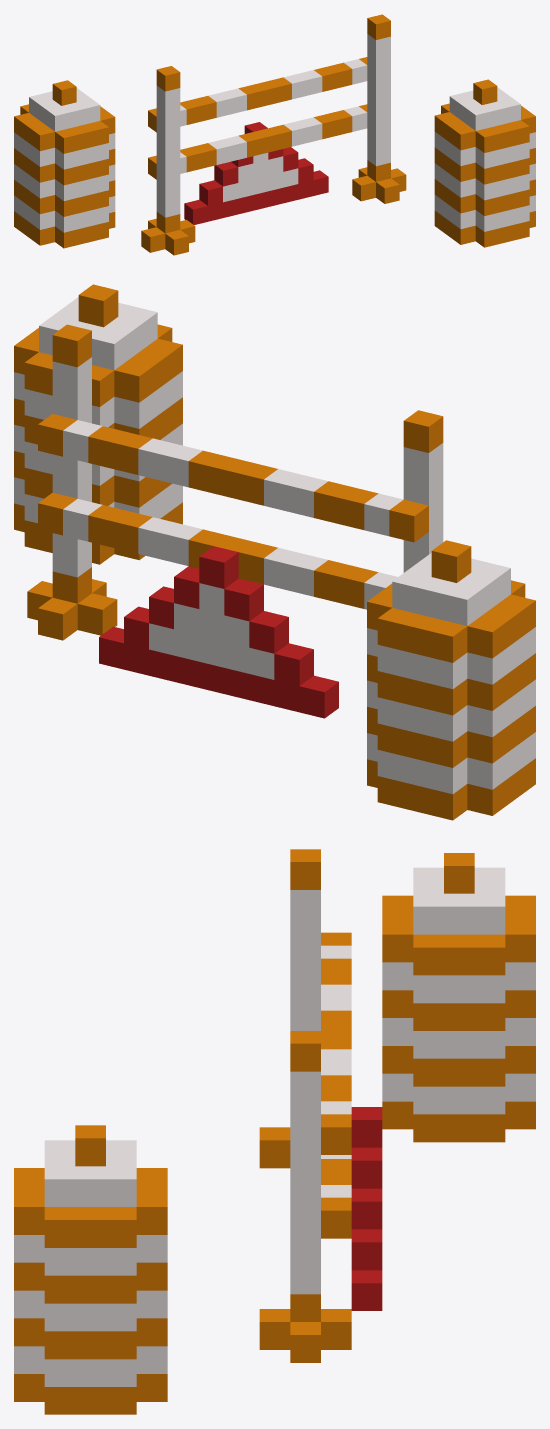
File: torinoCyberPunk-30.obj
3 renders of one model, top to bottom at view 1: azimuth 30°, elevation 25°; view 2: azimuth 150°, elevation 25°; view 3: azimuth 270°, elevation 25°, orthographic. The views are drawn at different scales.
Size of the model in its own units: 2.6 by 1.1 by 1.7.
Materials: 1 (1 with a texture image).
